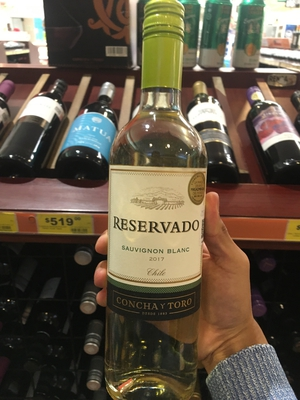reservado sauvignon blanc: (92, 4, 208, 344)
